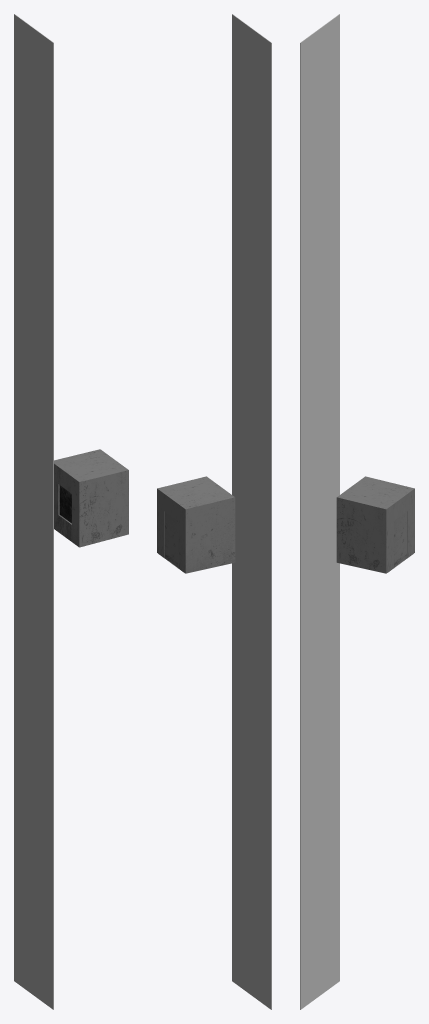
Rendered from Elavator.fbx.
3 views of the same model, side by side, from view 1: azimuth 30°, elevation 25°; view 2: azimuth 210°, elevation 25°; view 3: azimuth 330°, elevation 25° (orthographic).
Parts seen in each view (by area): view 1: Cube.003, Cube.001; view 2: Cube.003, Cube.001, Cube.002; view 3: Cube.003, Cube.001, Cube.002, Cube.
Part boxes in pixels (<box>): Cube.003: <box>14,14,53,1009</box>; Cube.001: <box>54,449,128,547</box>; Cube.003: <box>232,14,271,1009</box>; Cube.001: <box>157,476,235,573</box>; Cube.002: <box>165,512,171,563</box>; Cube.003: <box>300,14,339,1009</box>; Cube.001: <box>336,476,414,573</box>; Cube.002: <box>389,516,400,571</box>; Cube: <box>400,512,406,562</box>.
Size of the model in its own units: 685 by 7825 by 578.
